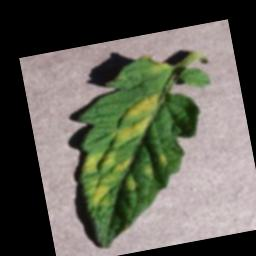Leaf_Mold: (77, 145, 142, 213), (105, 94, 168, 146)
